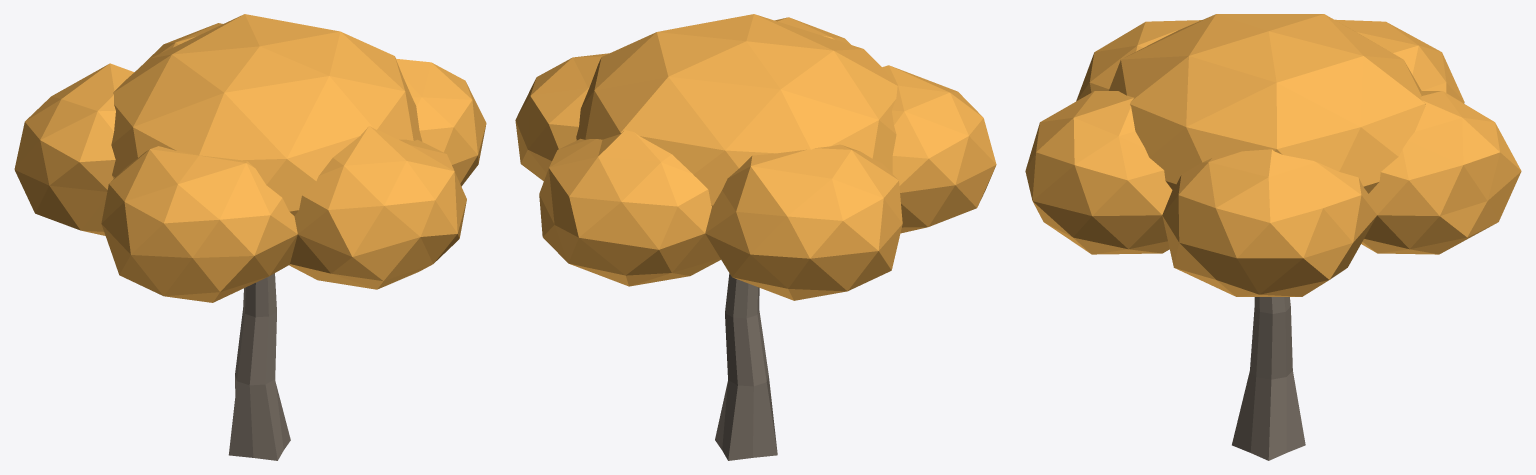
Rendered from tree_autumn_oak.glb.
3 views of the same model, side by side, from view 1: azimuth 30°, elevation 25°; view 2: azimuth 150°, elevation 25°; view 3: azimuth 270°, elevation 25° (orthographic). The views are drawn at different scales.
Visible parts, largest first — view 1: tree_autumn_oak; view 2: tree_autumn_oak; view 3: tree_autumn_oak.
Boxes of the visible parts, x1=… form: tree_autumn_oak: x1=14, y1=14, x2=486, y2=460; tree_autumn_oak: x1=515, y1=14, x2=996, y2=460; tree_autumn_oak: x1=1025, y1=14, x2=1521, y2=460.
Bounding box in the file's own units: 7.08 × 6.8 × 7.38.
